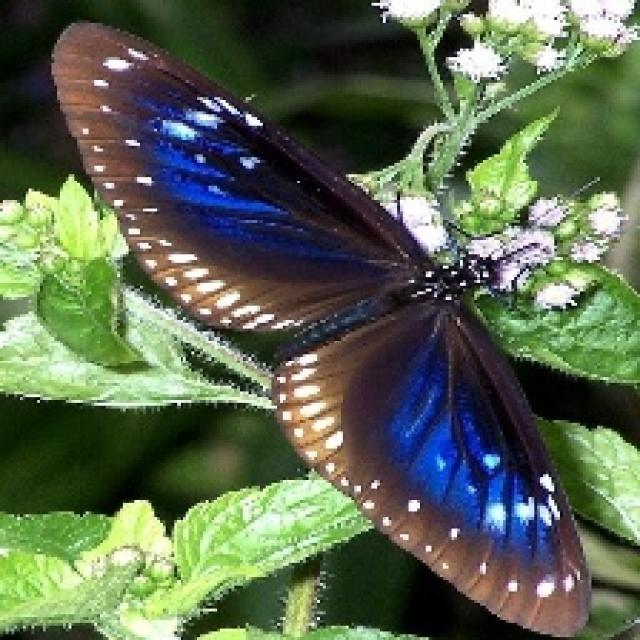butterfly: (46, 14, 594, 637)
